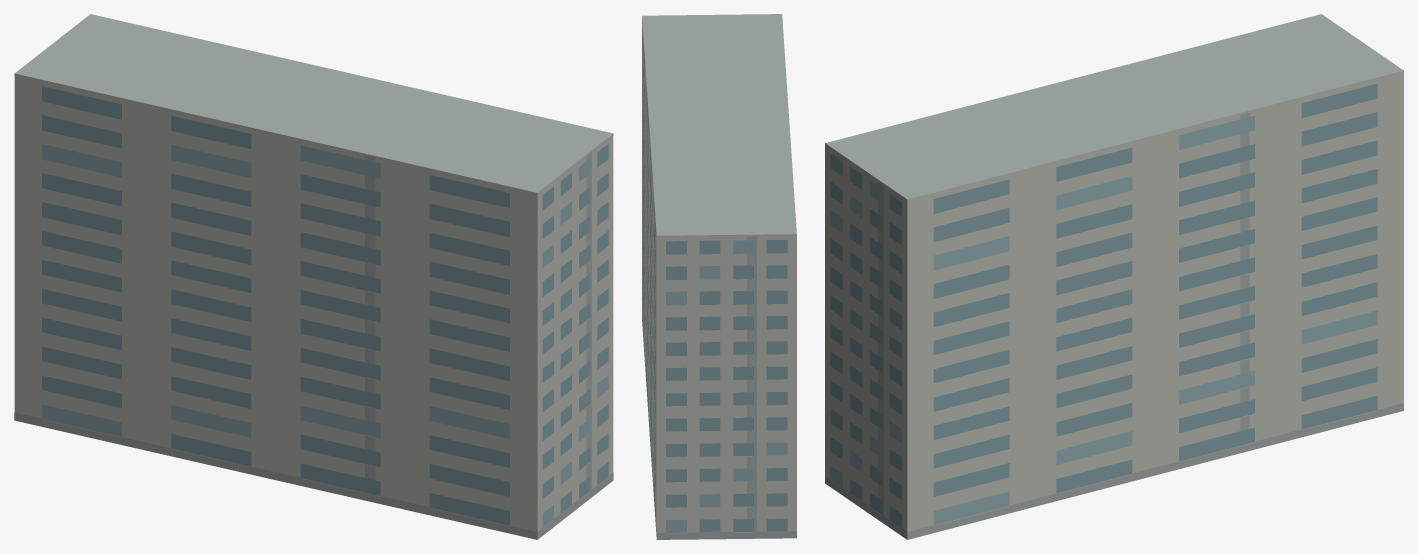
The model's file is residential-b3234a21-28d6-468f-899e-474b8ac03f73.glb.
3 renders of one model, left to right at view 1: azimuth 30°, elevation 25°; view 2: azimuth 150°, elevation 25°; view 3: azimuth 270°, elevation 25°, orthographic. The views are drawn at different scales.
Visible parts, largest first — view 1: residential-b3234a21-28d6-468f-899e-474b8ac03f73.tmp; view 2: residential-b3234a21-28d6-468f-899e-474b8ac03f73.tmp; view 3: residential-b3234a21-28d6-468f-899e-474b8ac03f73.tmp.
Part boxes in pixels (box(x1,y1,x2,y2)): residential-b3234a21-28d6-468f-899e-474b8ac03f73.tmp: box(14, 14, 613, 539); residential-b3234a21-28d6-468f-899e-474b8ac03f73.tmp: box(642, 14, 796, 539); residential-b3234a21-28d6-468f-899e-474b8ac03f73.tmp: box(825, 14, 1403, 539).
Bounding box in the file's own units: 46.79 × 40 × 61.65.
